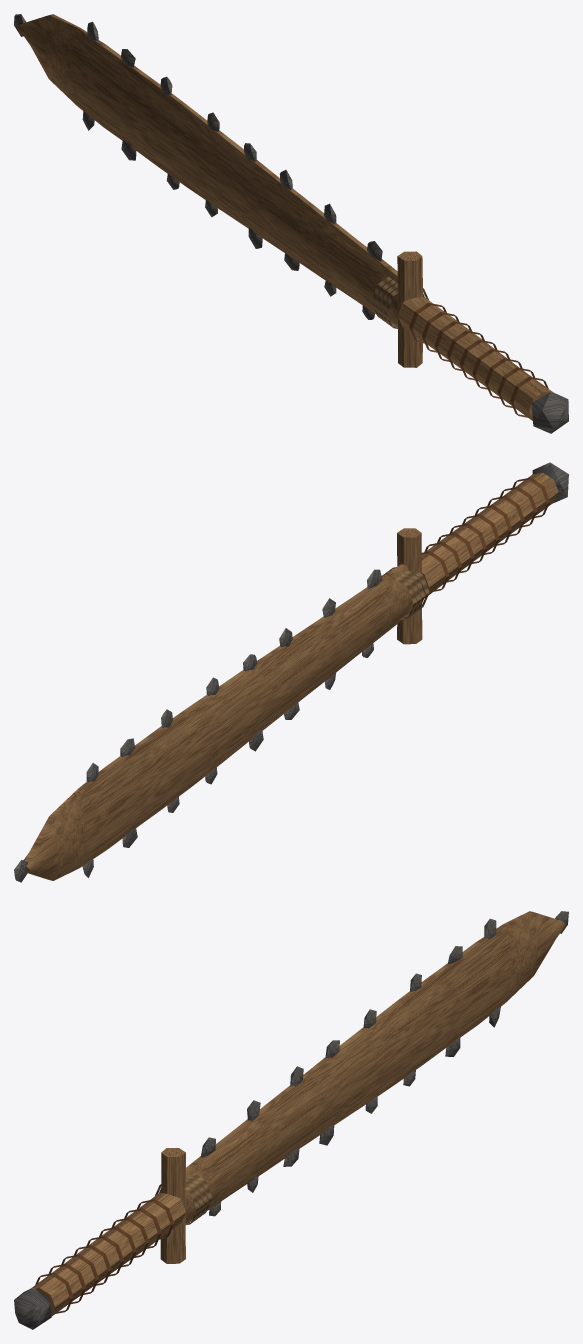
File: WEAPON_FlintSword.fbx
3 views of the same model, one above another, from view 1: azimuth 30°, elevation 25°; view 2: azimuth 150°, elevation 25°; view 3: azimuth 330°, elevation 25° (orthographic).
Parts seen in each view (by area): view 1: WEAPON_FlintSword; view 2: WEAPON_FlintSword; view 3: WEAPON_FlintSword.
Part boxes in pixels (<box>): WEAPON_FlintSword: <box>14,14,568,433</box>; WEAPON_FlintSword: <box>14,462,568,882</box>; WEAPON_FlintSword: <box>14,911,568,1329</box>.
Bounding box in the file's own units: 0.044 × 0.1096 × 0.9606.
